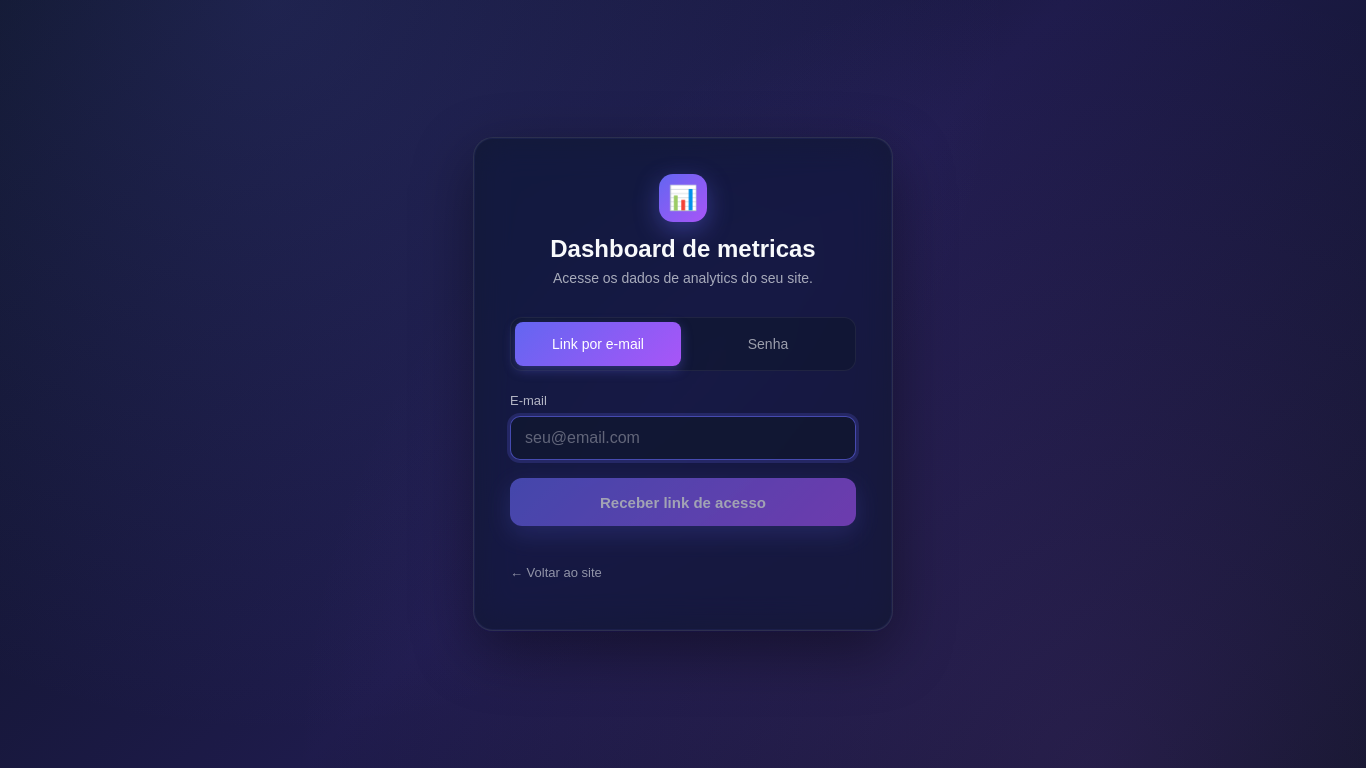
ClienteLogin › alterna pra tab de senha e mostra o campo de senha
This screenshot has width=1366, height=768.
Click the tab "Senha" at (768, 344), box [685,322,851,366]
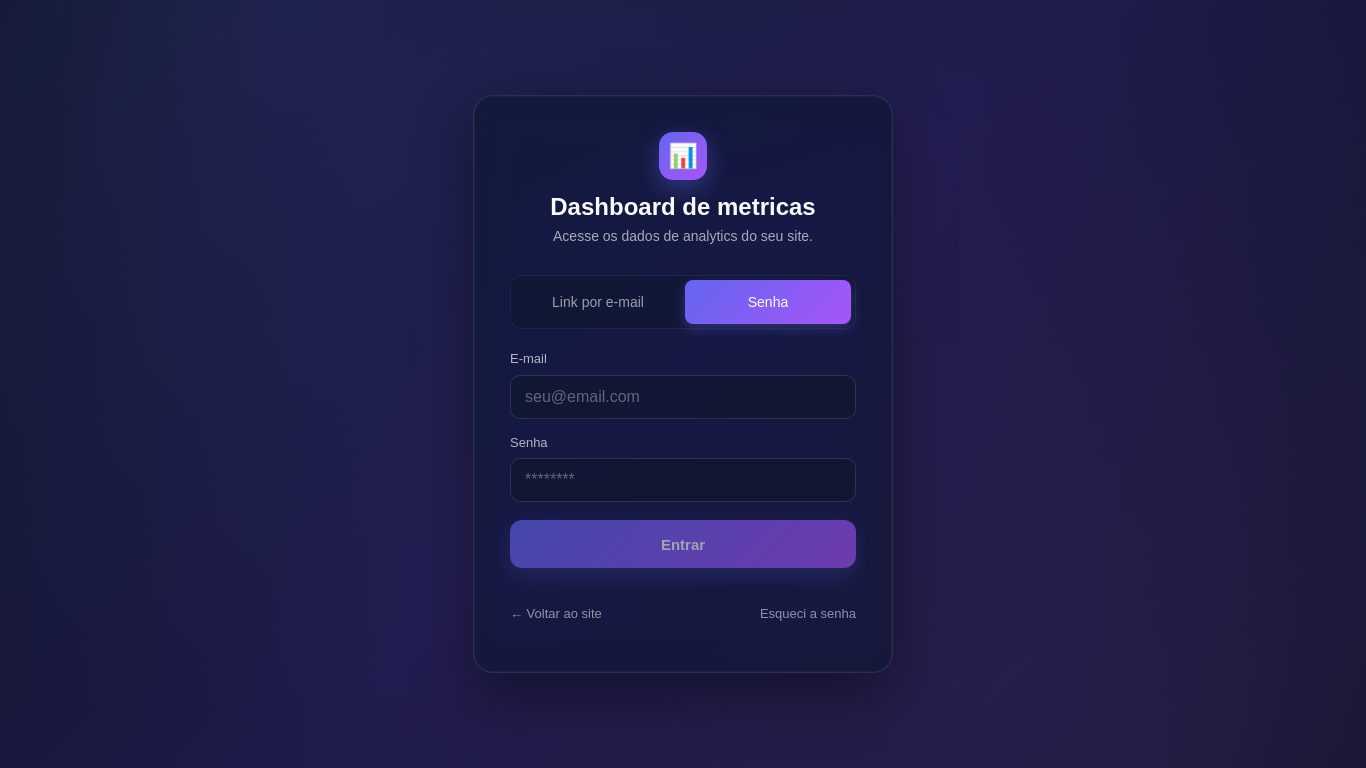
Expected: the password field labelled "Senha" is shown, [510,458,856,502]
